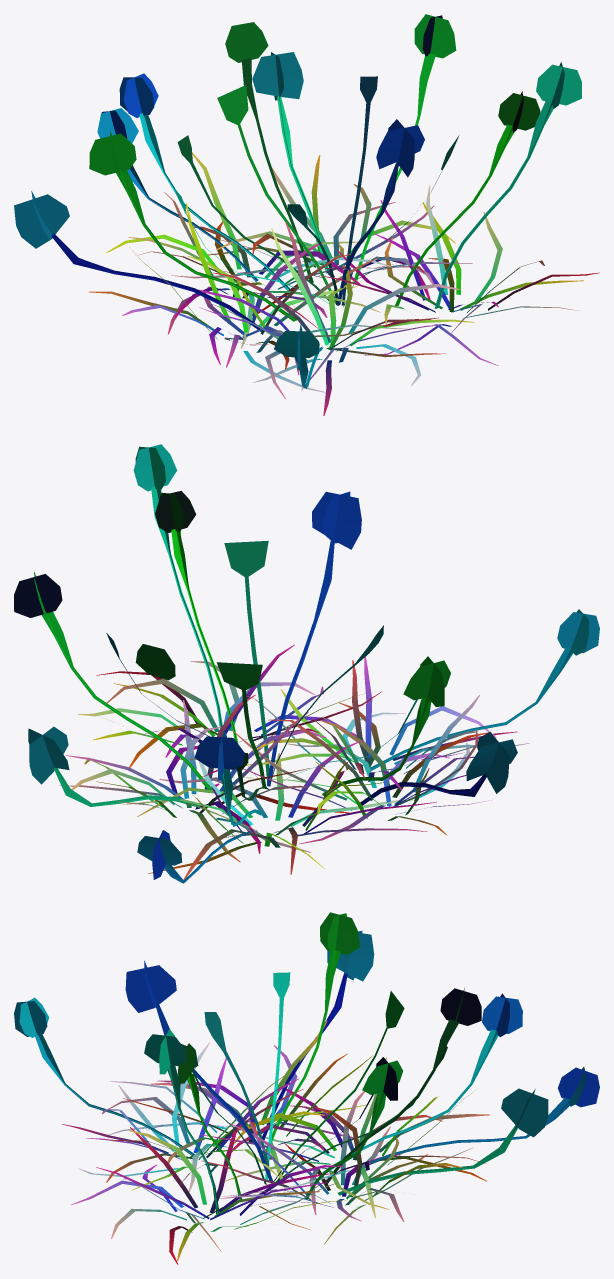
The model's file is Sea_Thrift_vkbgaihha_Mid_vkbgaihha_VarE_LOD1.fbx.
3 renders of one model, top to bottom at view 1: azimuth 30°, elevation 25°; view 2: azimuth 150°, elevation 25°; view 3: azimuth 270°, elevation 25°, orthographic. The views are drawn at different scales.
Parts seen in each view (by area): view 1: _u6za_VarE_LOD2; view 2: _u6za_VarE_LOD2; view 3: _u6za_VarE_LOD2.
Part boxes in pixels (x1,y1,x2,y2): _u6za_VarE_LOD2: [14, 14, 599, 415]; _u6za_VarE_LOD2: [14, 444, 599, 883]; _u6za_VarE_LOD2: [14, 912, 599, 1264].
Bounding box in the file's own units: 30.99 × 14.82 × 34.08.
